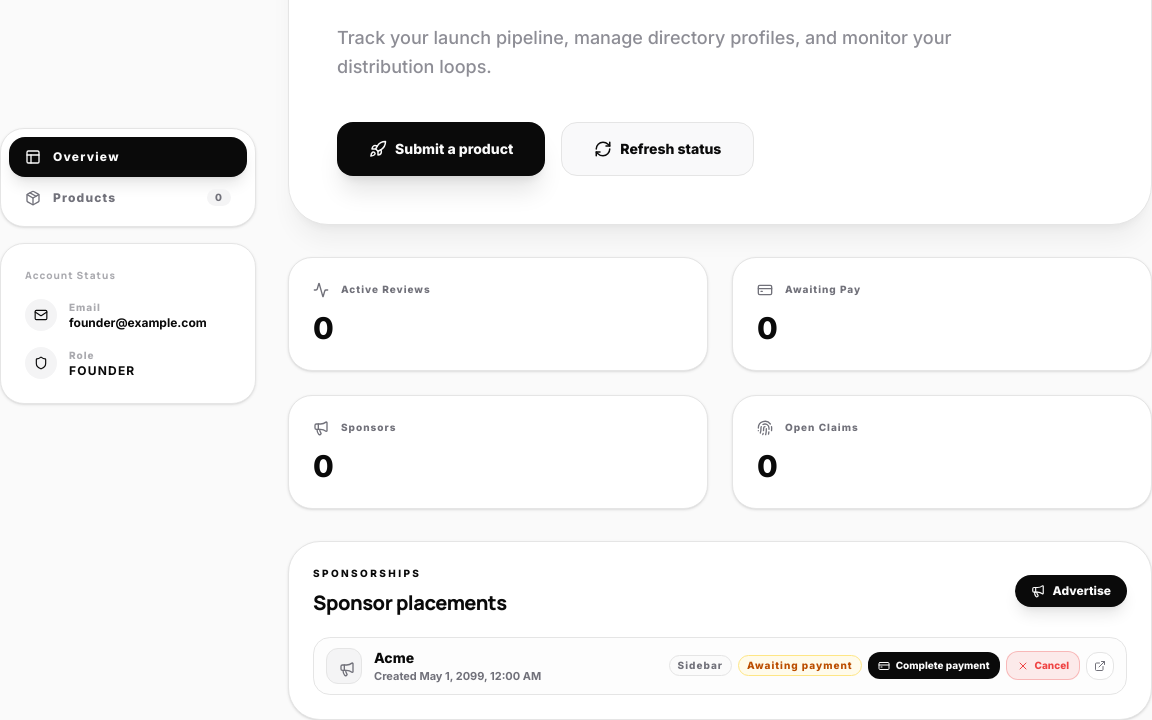
founder-dashboard › cancels and hides a pending sponsor placement
(page scrolled)
Click the button "Cancel". click: (1043, 666)
box: top-left (1006, 651), bottom-right (1080, 680)
(page scrolled)
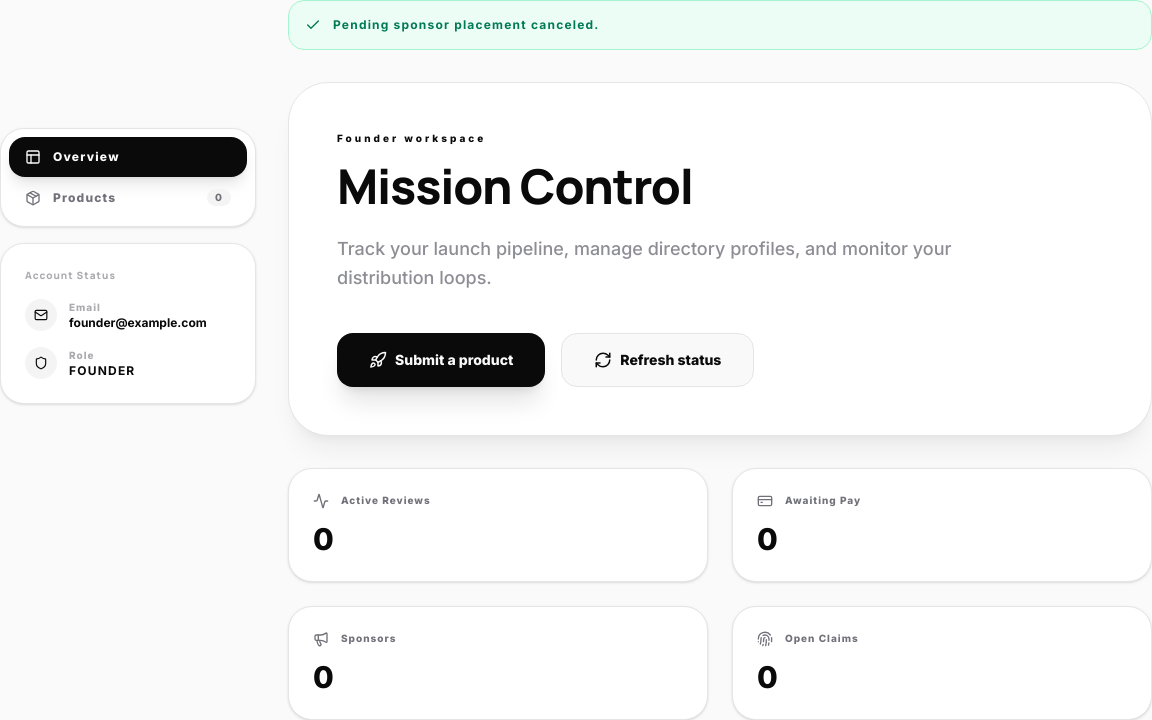
Now the text "Acme" is gone
Now the text "Pending sponsor placement canceled." is shown, box top-left (288, 0), bottom-right (1151, 50)
